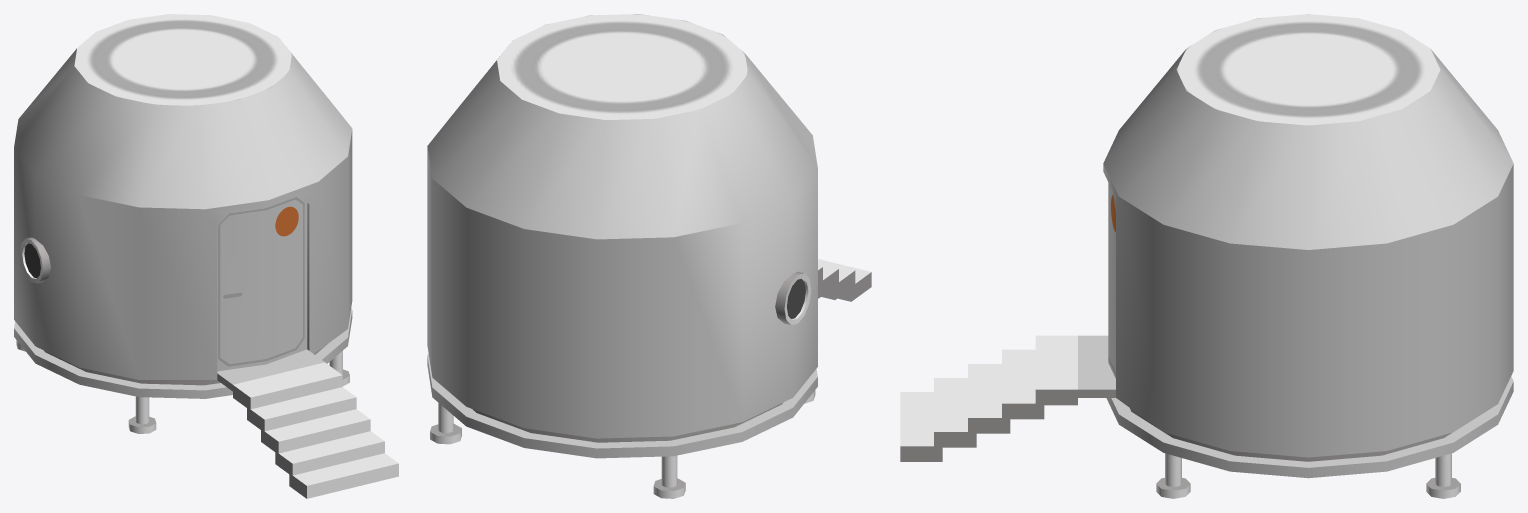
The model's file is house3.fbx.
3 views of the same model, side by side, from view 1: azimuth 30°, elevation 25°; view 2: azimuth 150°, elevation 25°; view 3: azimuth 270°, elevation 25° (orthographic). The views are drawn at different scales.
Visible parts, largest first — view 1: house3; view 2: house3; view 3: house3.
Part boxes in pixels (bbox=[...]): house3: bbox=[14, 14, 398, 498]; house3: bbox=[427, 14, 871, 498]; house3: bbox=[900, 14, 1513, 498].
Size of the model in its own units: 6.42 by 6.22 by 9.47.
